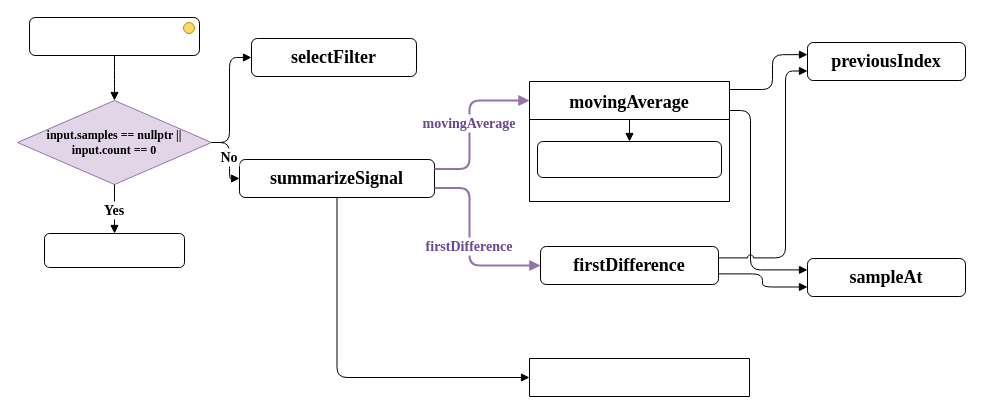
The diagram is 983 pixels wide and 414 high, and some of its shapes have lost their labels. Here are the shapes that lost their labels. From the top down, the box of each, then its label:
(28, 16, 200, 56): analyzeSignal
(536, 140, 722, 178): averageWindow
(44, 232, 184, 268): return {};
(528, 358, 750, 396): updateStats
